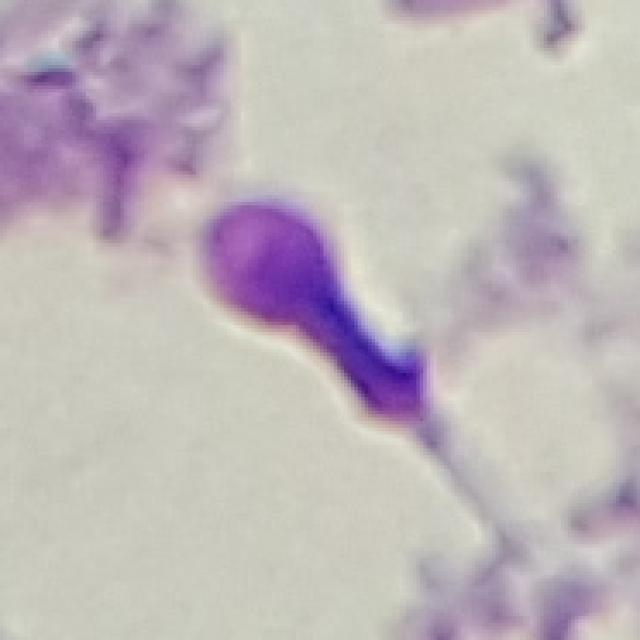abnormal sperm: (182, 182, 524, 545)
